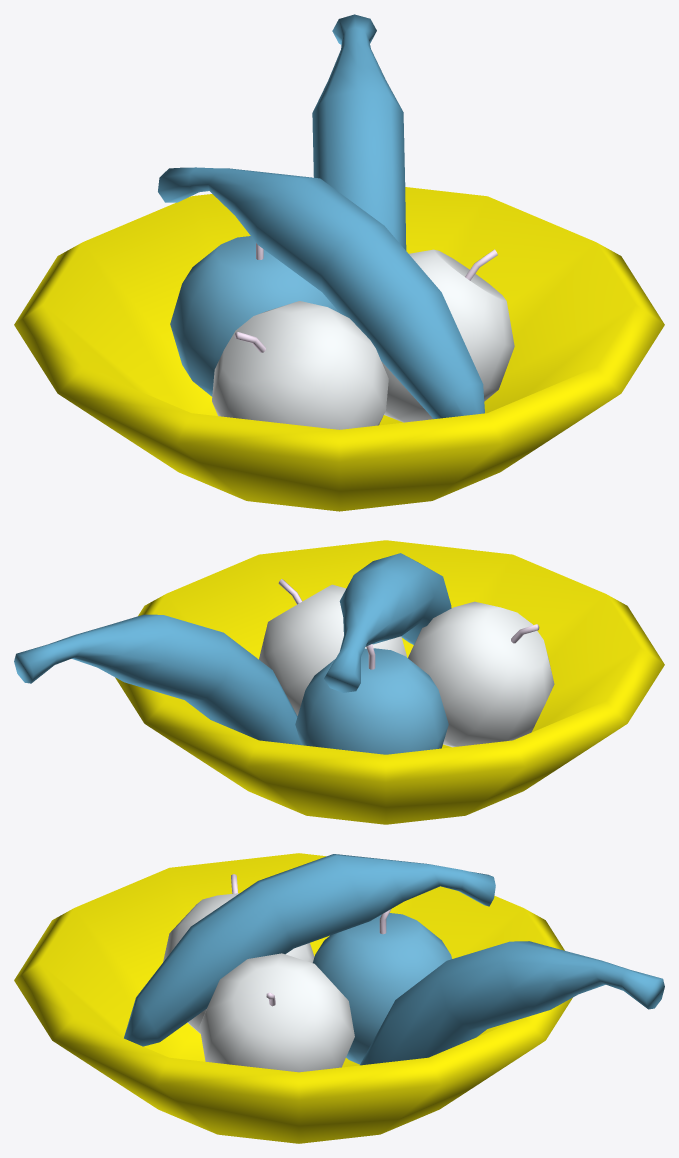
File: FruitBowl.fbx
The picture shows the model from 3 angles, top to bottom: view 1: azimuth 30°, elevation 25°; view 2: azimuth 150°, elevation 25°; view 3: azimuth 270°, elevation 25°; orthographic projection. The views are drawn at different scales.
Parts seen in each view (by area): view 1: FruitBowl; view 2: FruitBowl; view 3: FruitBowl.
Part boxes in pixels (x1,y1,x2,y2): FruitBowl: (14,14,664,511); FruitBowl: (14,540,664,824); FruitBowl: (14,853,664,1143).
Bounding box in the file's own units: 0.4449 × 0.195 × 0.5082.
